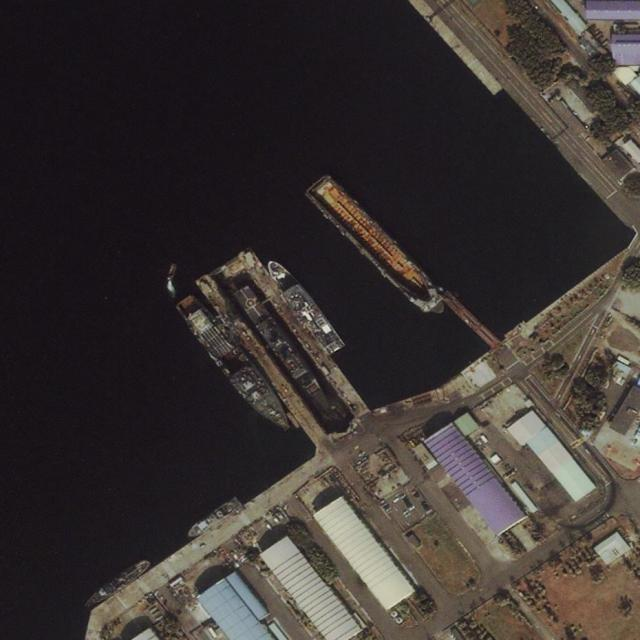Cargo: (301, 168, 455, 325)
Frigate: (233, 285, 334, 416)
Other Warship: (172, 290, 297, 441), (262, 253, 346, 357)
